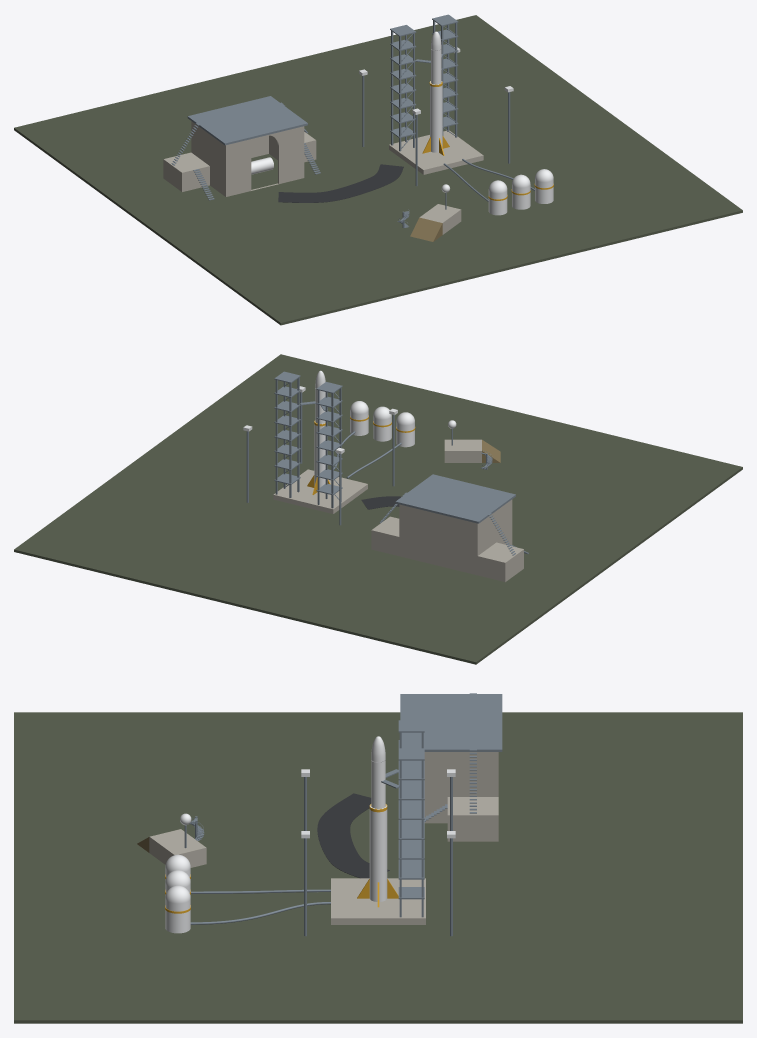
Rendered from spaceport.L0.glb.
3 views of the same model, one above another, from view 1: azimuth 30°, elevation 25°; view 2: azimuth 150°, elevation 25°; view 3: azimuth 270°, elevation 25° (orthographic). The views are drawn at different scales.
Visible parts, largest first — view 1: ground, hangar.body, hangar.roof, pad, road, wings.mirrored.annex, rocket.stage1, bunker, berm; view 2: ground, hangar.body, hangar.roof, pad, wings.mirrored.annex, wings.annex, bunker; view 3: ground, hangar.roof, hangar.body, pad, road, wings.annex, rocket.stage1, bunker, tanks.2.tank, rocket.stage2.
Boxes of the visible parts, x1=… form: ground: x1=14, y1=15, x2=742, y2=325; hangar.body: x1=191, y1=121, x2=304, y2=196; hangar.roof: x1=187, y1=96, x2=307, y2=145; pad: x1=389, y1=130, x2=483, y2=174; road: x1=278, y1=164, x2=403, y2=202; wings.mirrored.annex: x1=163, y1=152, x2=209, y2=191; rocket.stage1: x1=430, y1=81, x2=442, y2=152; bunker: x1=419, y1=204, x2=461, y2=234; berm: x1=410, y1=217, x2=442, y2=241; ground: x1=14, y1=354, x2=742, y2=664; hangar.body: x1=399, y1=499, x2=512, y2=575; hangar.roof: x1=395, y1=474, x2=515, y2=523; pad: x1=273, y1=469, x2=367, y2=513; wings.mirrored.annex: x1=477, y1=542, x2=523, y2=582; wings.annex: x1=371, y1=516, x2=399, y2=555; bunker: x1=444, y1=439, x2=481, y2=462; ground: x1=14, y1=712, x2=742, y2=1023; hangar.roof: x1=400, y1=694, x2=502, y2=751; hangar.body: x1=424, y1=752, x2=498, y2=823; pad: x1=331, y1=878, x2=425, y2=924; road: x1=317, y1=793, x2=389, y2=878; wings.annex: x1=447, y1=797, x2=498, y2=841; rocket.stage1: x1=369, y1=804, x2=387, y2=901; bunker: x1=149, y1=829, x2=206, y2=867; tanks.2.tank: x1=165, y1=899, x2=190, y2=933; rocket.stage2: x1=371, y1=760, x2=385, y2=808.
Size of the model in its own units: 200 by 52 by 200.
